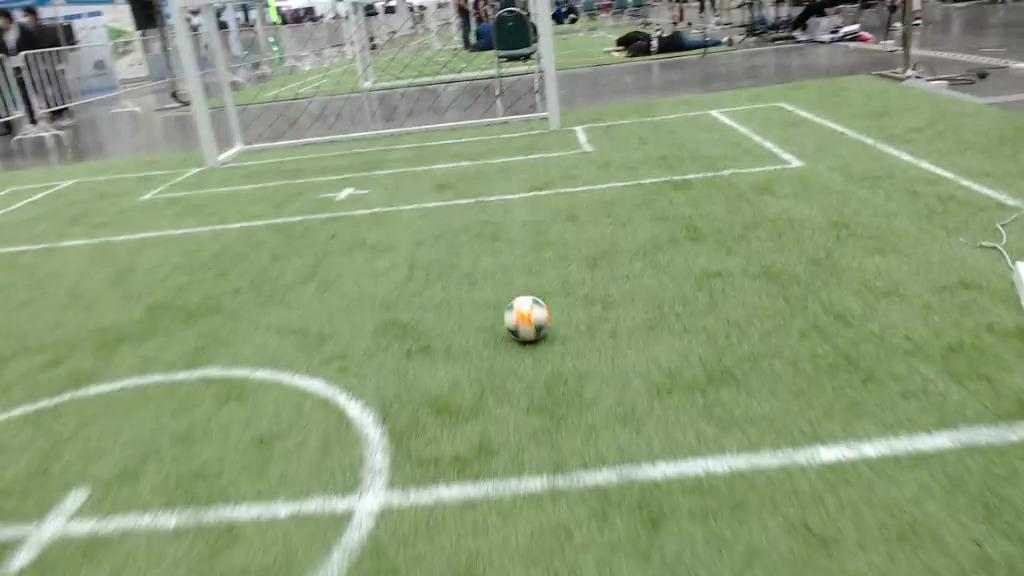ball: (504, 295, 548, 344)
